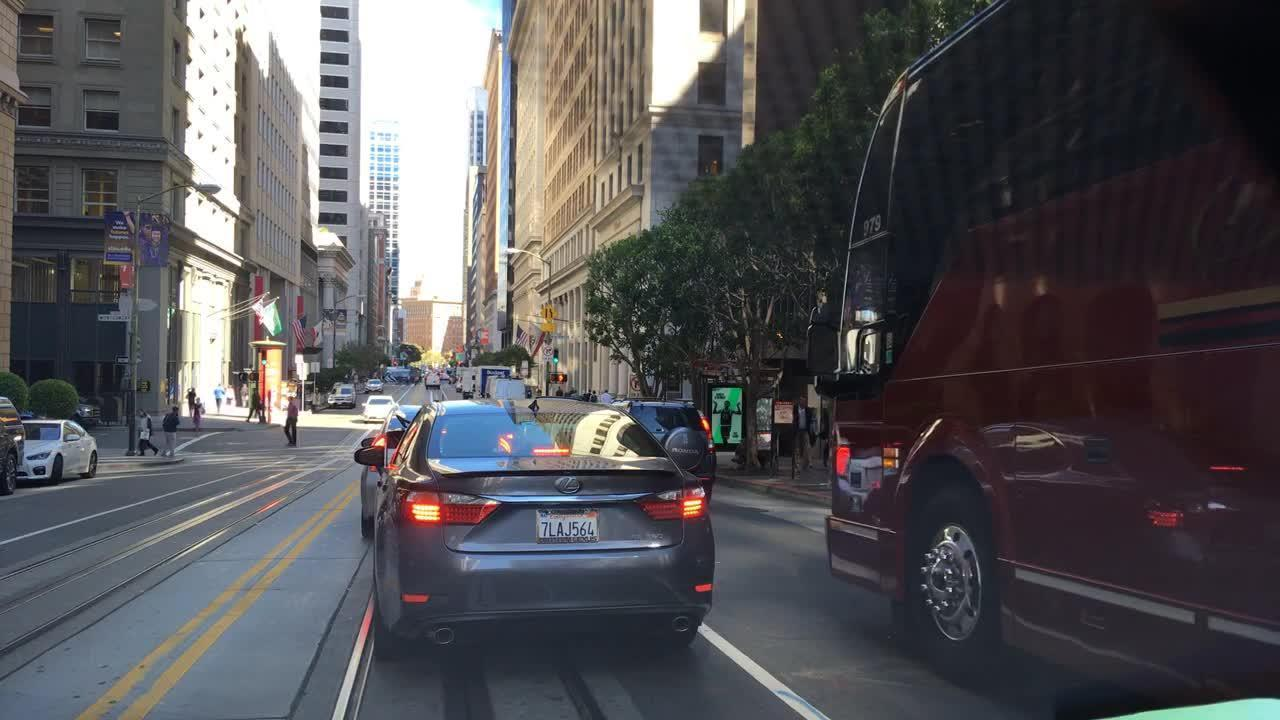lexus: (554, 476, 586, 495)
